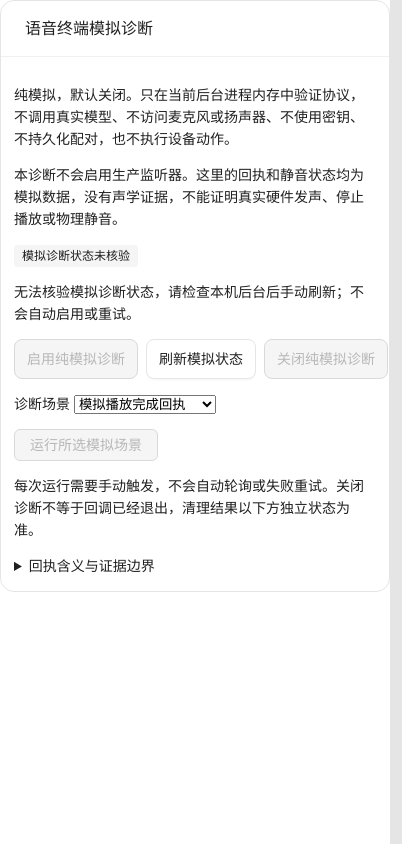
memory-only terminal diagnostics › shows a failed initial read without enabling anything and supports explicit refresh
Check: the message "无法核验模拟诊断状态，请检查本机后台后手动刷新；不会自动启用或重试。" is shown, box top-left (14, 281), bottom-right (376, 325)
Check: the button "启用纯模拟诊断" is disabled, box top-left (14, 339), bottom-right (138, 379)
Click the button "刷新模拟状态" at (201, 359), box top-left (146, 339), bottom-right (256, 379)
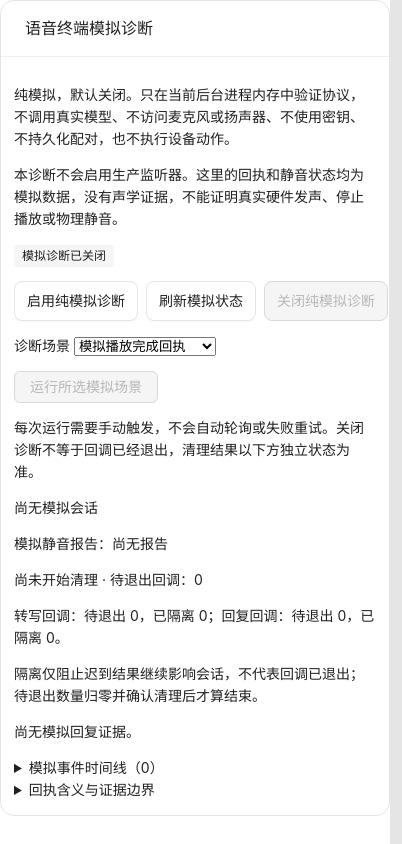
Check: the text "模拟诊断已关闭" is shown, box top-left (14, 245), bottom-right (114, 267)
